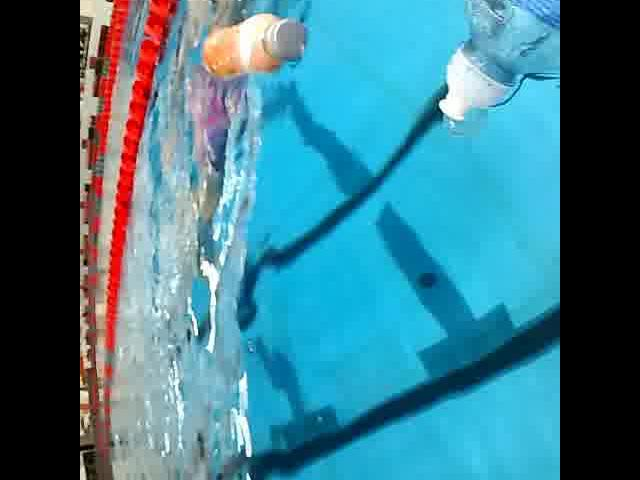Bottle: (432, 0, 560, 130), (196, 8, 314, 82)
